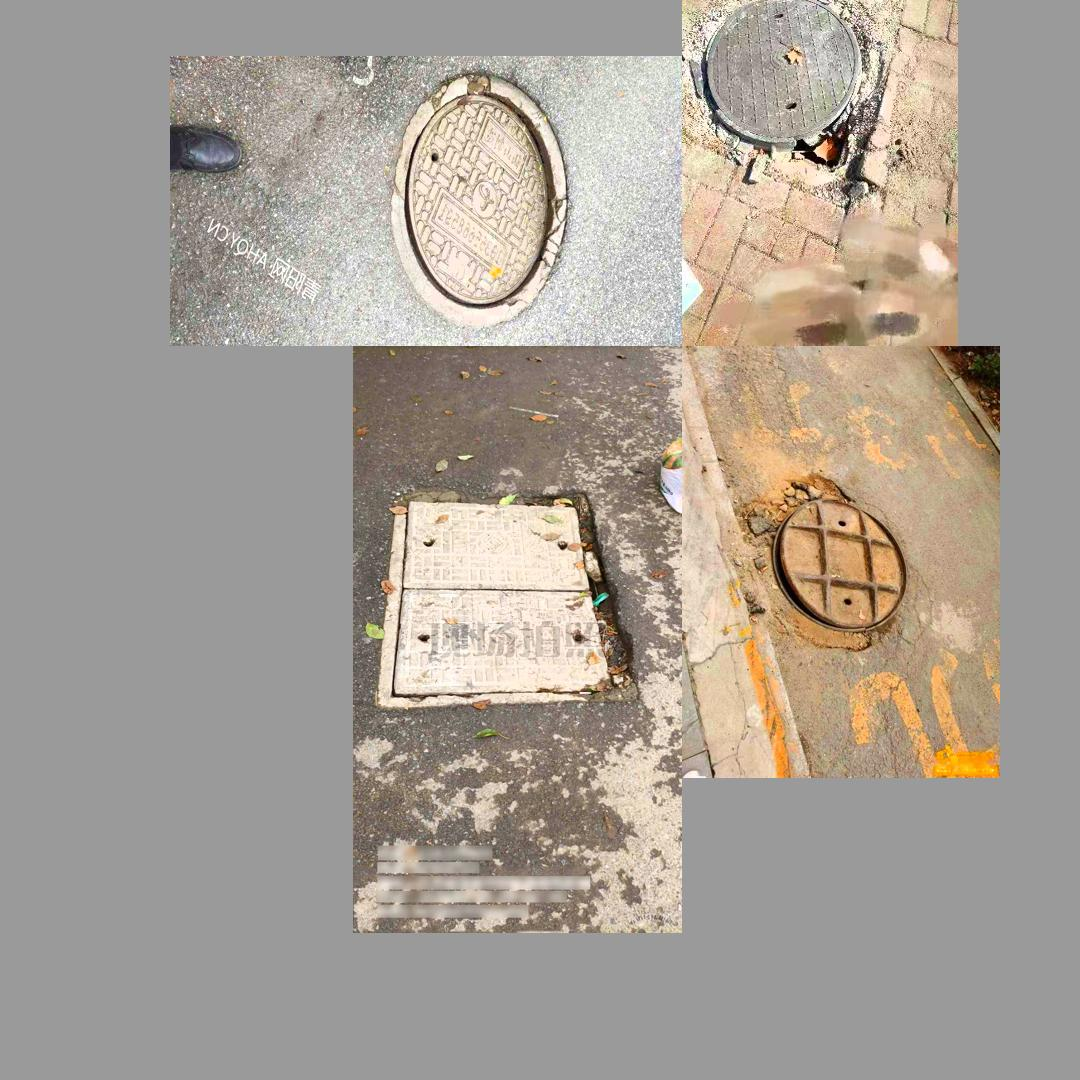circle: (380, 492, 640, 707), (379, 72, 591, 325), (718, 470, 929, 663), (682, 0, 889, 164)
